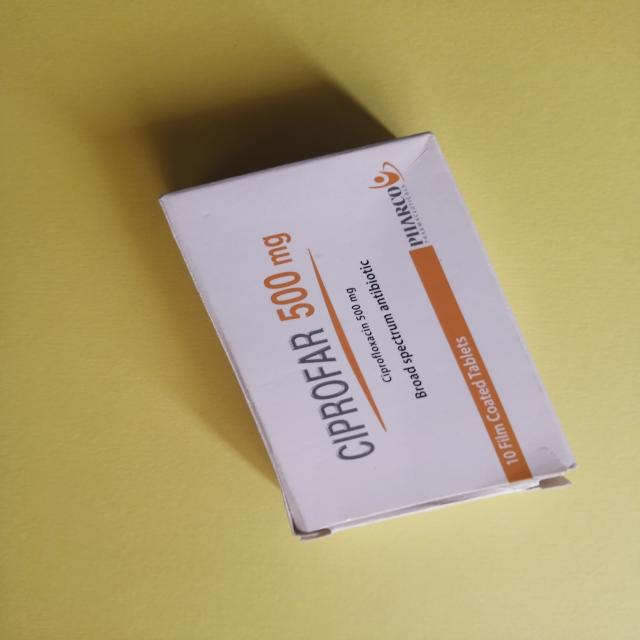Medicine: (155, 128, 580, 538)
